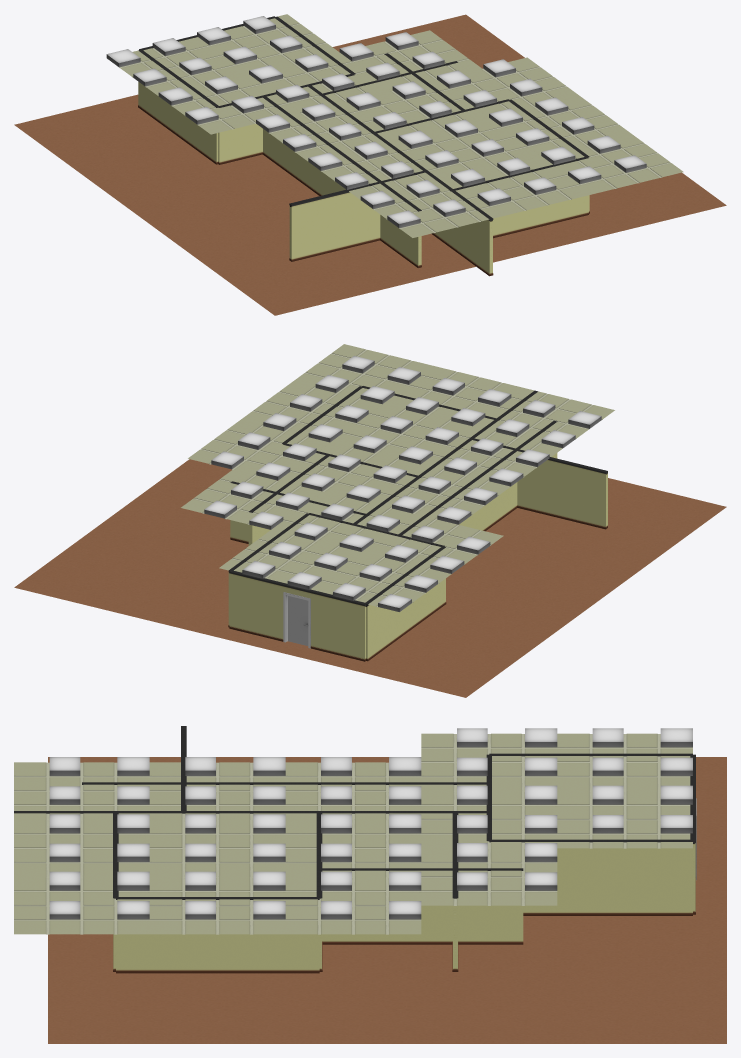
File: Room_03.fbx
3 views of the same model, one above another, from view 1: azimuth 30°, elevation 25°; view 2: azimuth 150°, elevation 25°; view 3: azimuth 270°, elevation 25° (orthographic). The views are drawn at different scales.
Visible parts, largest first — view 1: Ceiling, Floor, Wall.008, Wall.002, Wall.012, Wall.013, Wall.005, Wall.004, Wall.006; view 2: Ceiling, Floor, Wall, Wall.008, Wall.002, Wall.006, Door, Wall.010; view 3: Ceiling, Floor, Wall.003, Wall.011, Wall.010, Wall.001, Wall.007, Wall, Wall.009, Wall.002, Wall.006, Wall.005 (+2 smaller).
Part boxes in pixels (x1,y1,x2,y2): Ceiling: [106, 14, 683, 237]; Floor: [14, 14, 726, 315]; Wall.008: [289, 170, 426, 261]; Wall.002: [138, 50, 219, 164]; Wall.012: [451, 156, 588, 238]; Wall.013: [411, 161, 493, 276]; Wall.005: [262, 96, 343, 195]; Wall.004: [218, 74, 354, 164]; Wall.006: [340, 153, 421, 267]; Ceiling: [181, 344, 614, 611]; Floor: [14, 459, 726, 697]; Wall: [229, 570, 366, 661]; Wall.008: [470, 438, 607, 529]; Wall.002: [364, 546, 446, 661]; Wall.006: [476, 420, 557, 531]; Door: [287, 596, 308, 645]; Wall.010: [248, 454, 329, 545]; Ceiling: [14, 728, 692, 934]; Floor: [48, 757, 726, 1043]; Wall.003: [489, 839, 692, 915]; Wall.011: [116, 897, 319, 973]; Wall.010: [320, 868, 523, 944]; Wall.001: [452, 812, 458, 971]; Wall.007: [217, 811, 489, 813]; Wall: [690, 754, 696, 914]; Wall.009: [316, 812, 322, 971]; Wall.002: [489, 753, 692, 756]; Wall.006: [82, 782, 285, 784]; Wall.005: [285, 782, 486, 784].
Bounding box in the file's own units: 20 × 21 × 2.57.
